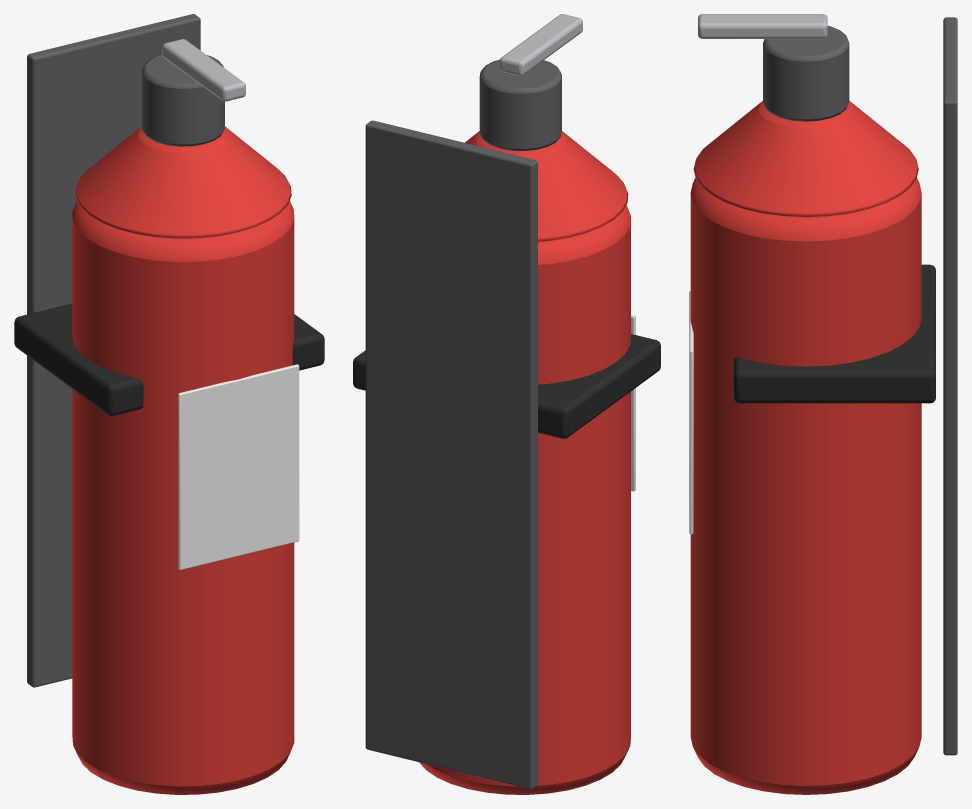
File: fire_extinguisher.glb
3 renders of one model, left to right at view 1: azimuth 30°, elevation 25°; view 2: azimuth 150°, elevation 25°; view 3: azimuth 270°, elevation 25°, orthographic. The views are drawn at different scales.
Visible parts, largest first — view 1: fire_extinguisher; view 2: fire_extinguisher; view 3: fire_extinguisher.
Boxes of the visible parts, x1=… form: fire_extinguisher: x1=14, y1=14, x2=324, y2=794; fire_extinguisher: x1=353, y1=14, x2=660, y2=794; fire_extinguisher: x1=689, y1=14, x2=957, y2=794.
Size of the model in its own units: 0.18 by 0.561 by 0.186.
